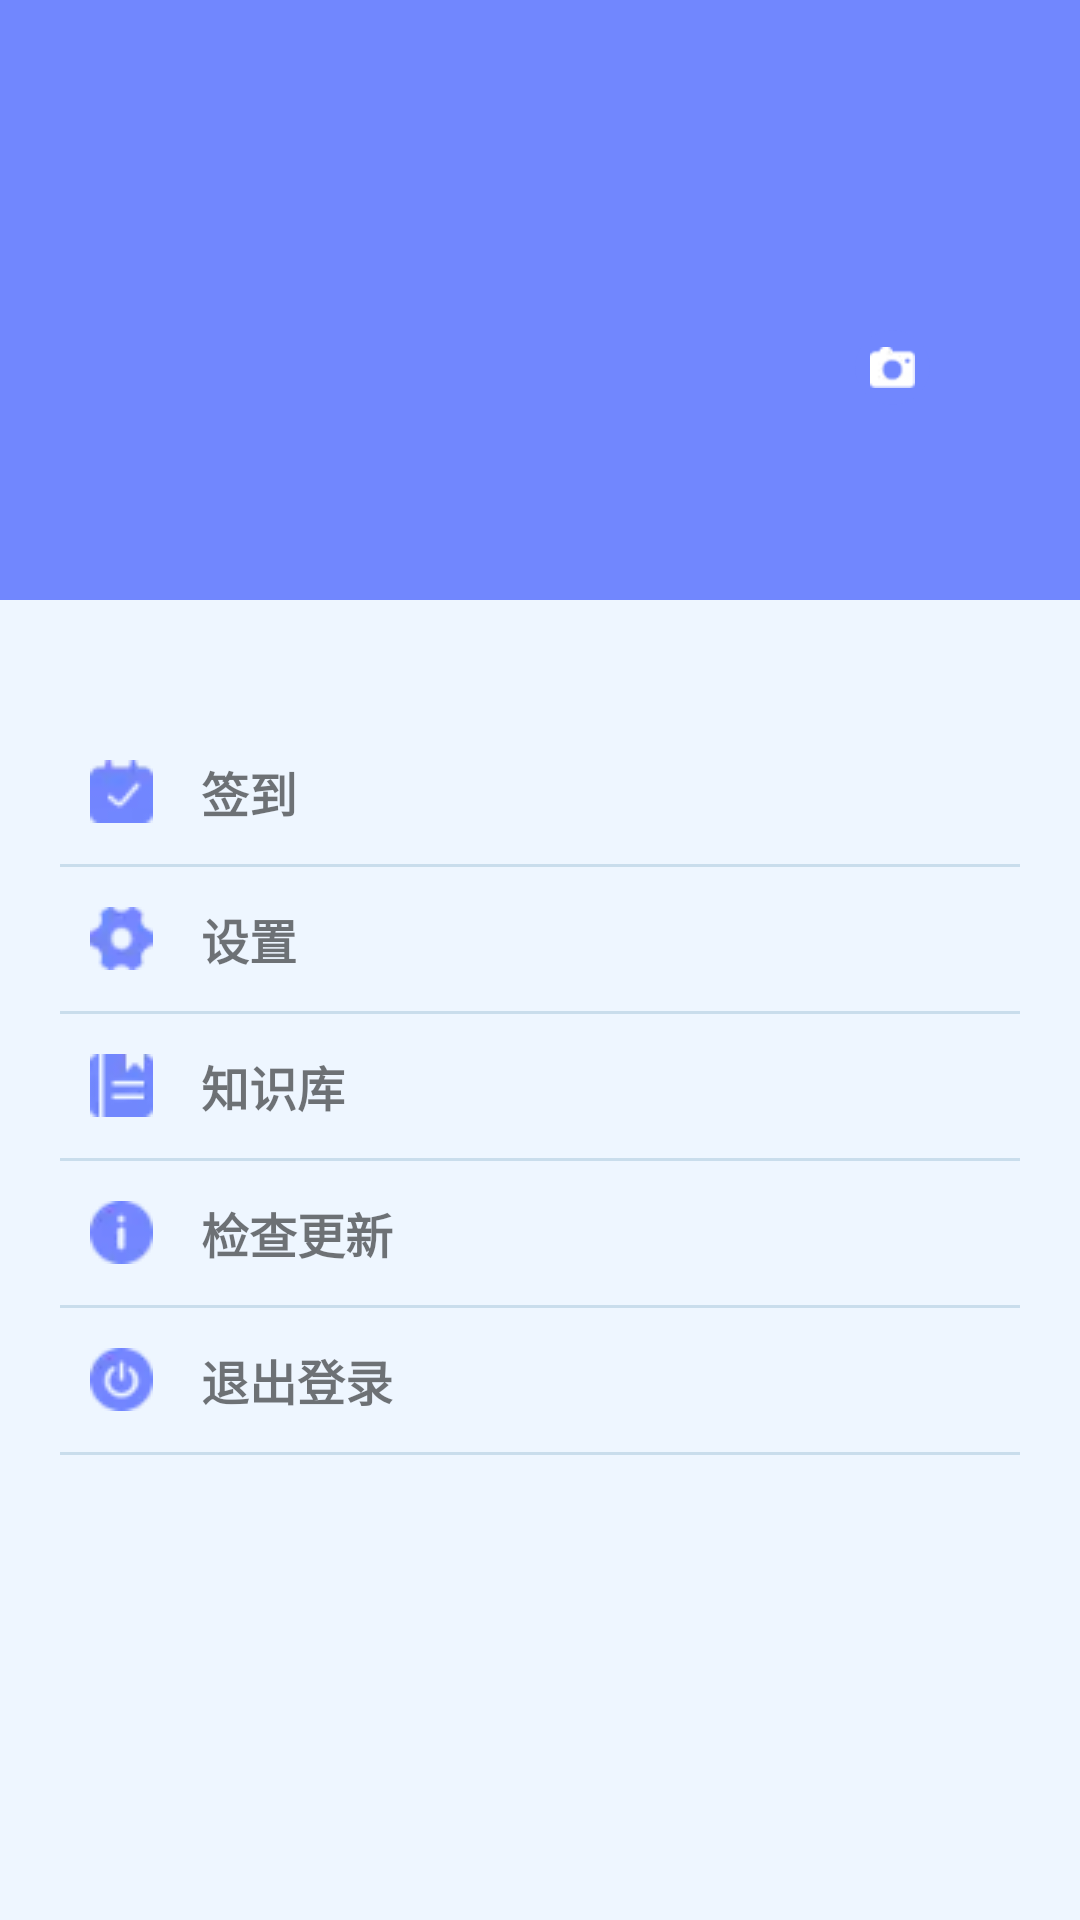

Screen size 1080 × 1920. Icon name, then its box in pixels as (x1, y1, x2, y2):
打开相机: (870, 347, 915, 388)
